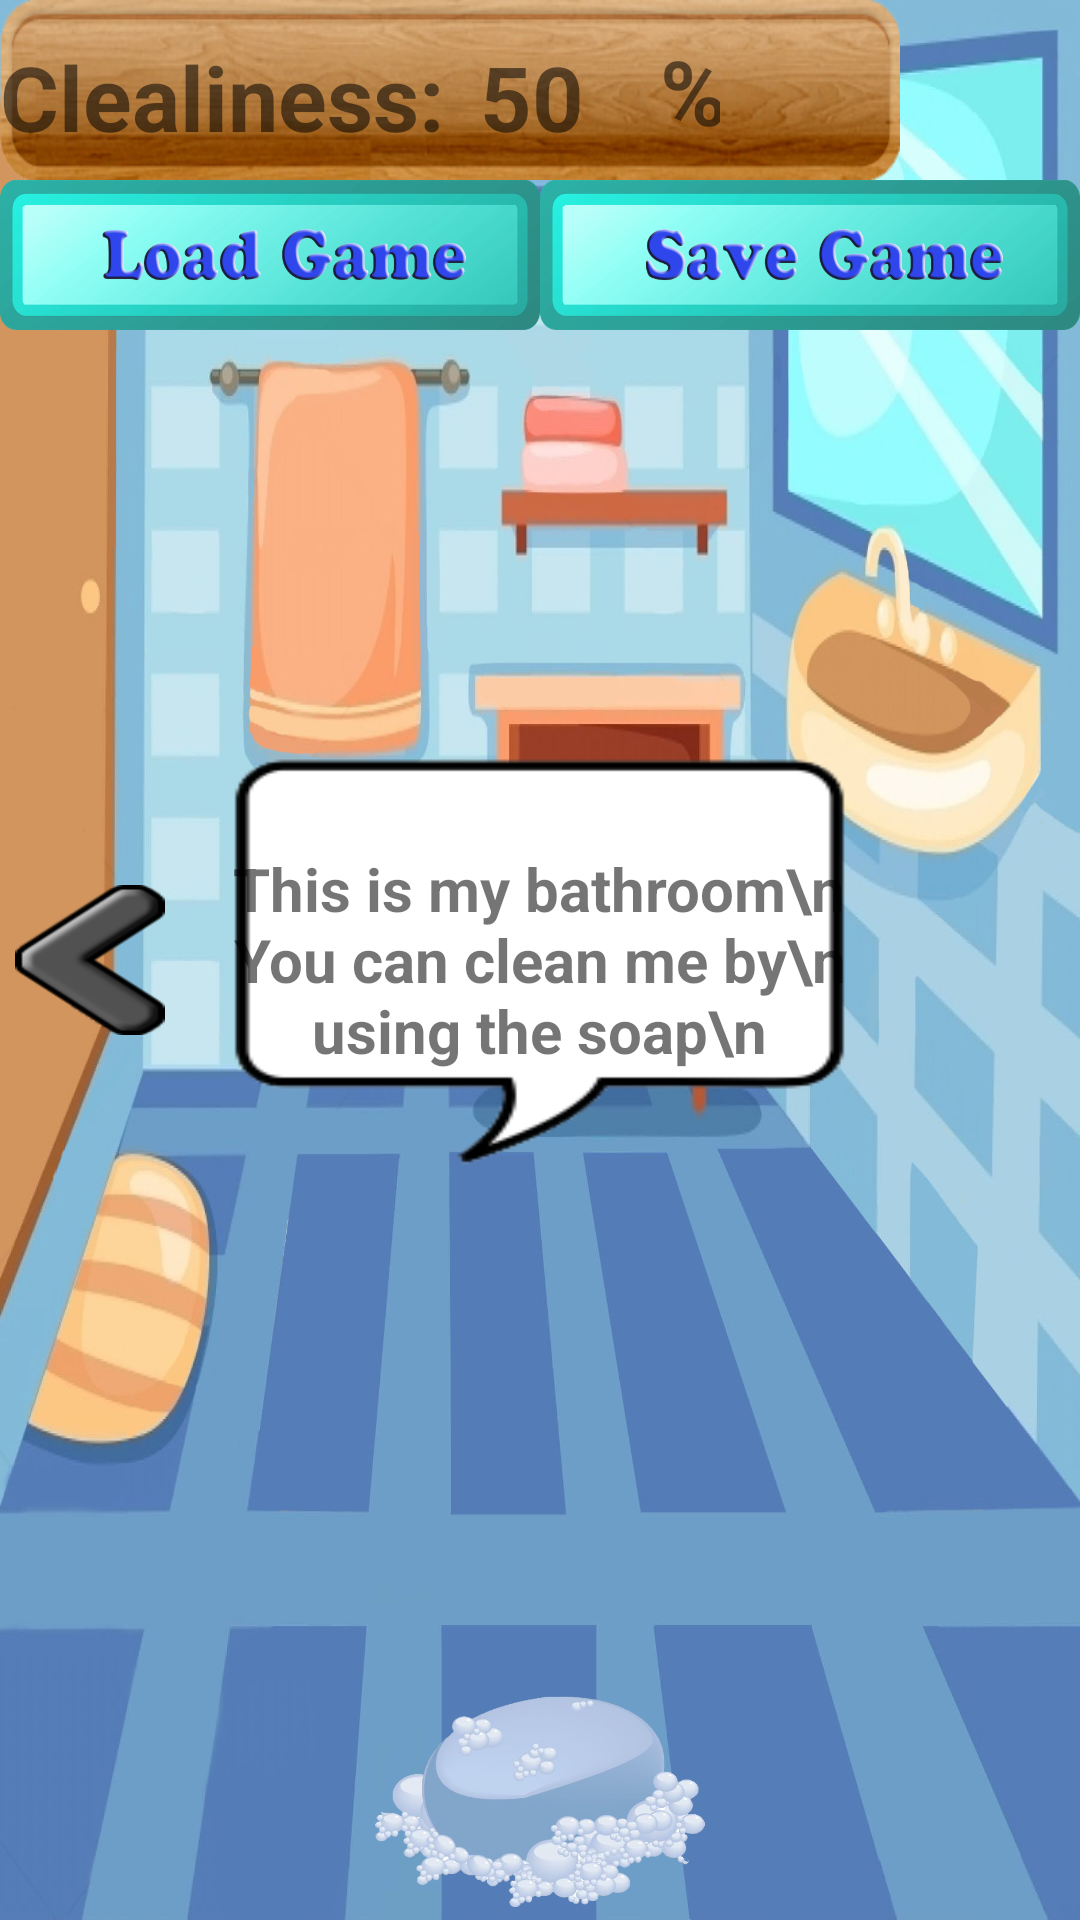

Icon click points for this 1080px×1920px phone screenshot, format [x,y]:
soap: [540,1800]
